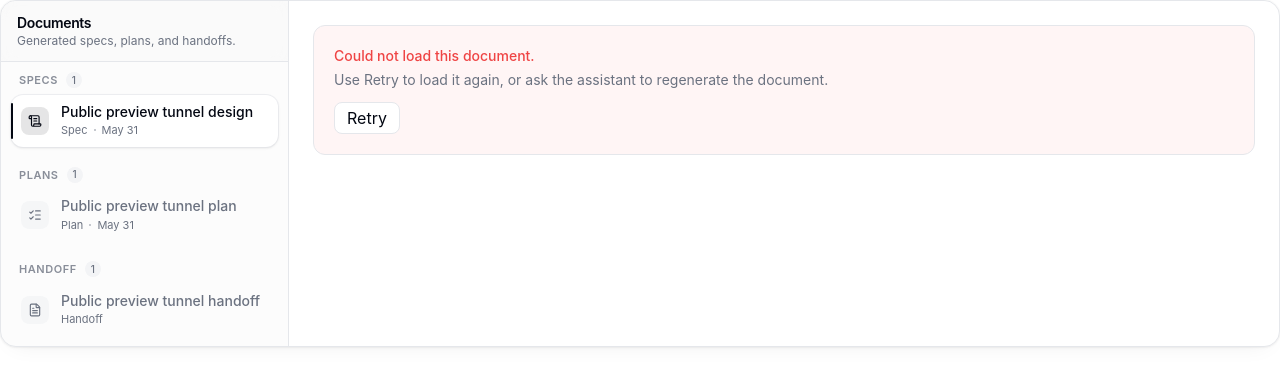
it: DocumentViewer › reloads the current document after a transient read failure
The image size is (1280, 365).
Expected: the text "Could not load this document." is shown, [334,47,535,64]
Click the button "Retry".
click(367, 118)  # box [334,102,400,134]
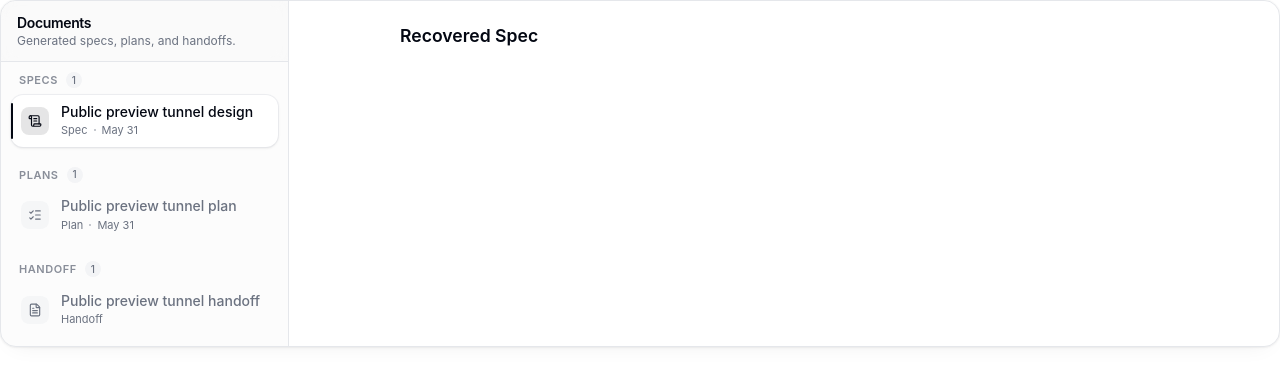
Expected: the heading "Recovered Spec" is shown, [400,25,538,46]
